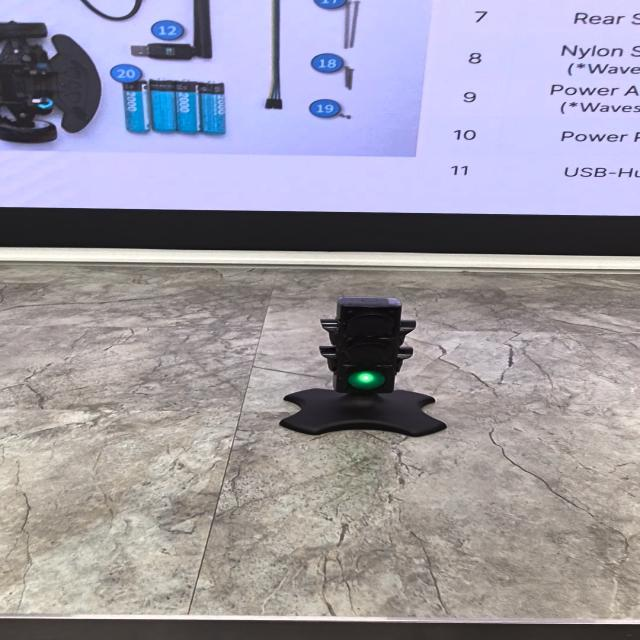green_light: (348, 371, 385, 389)
